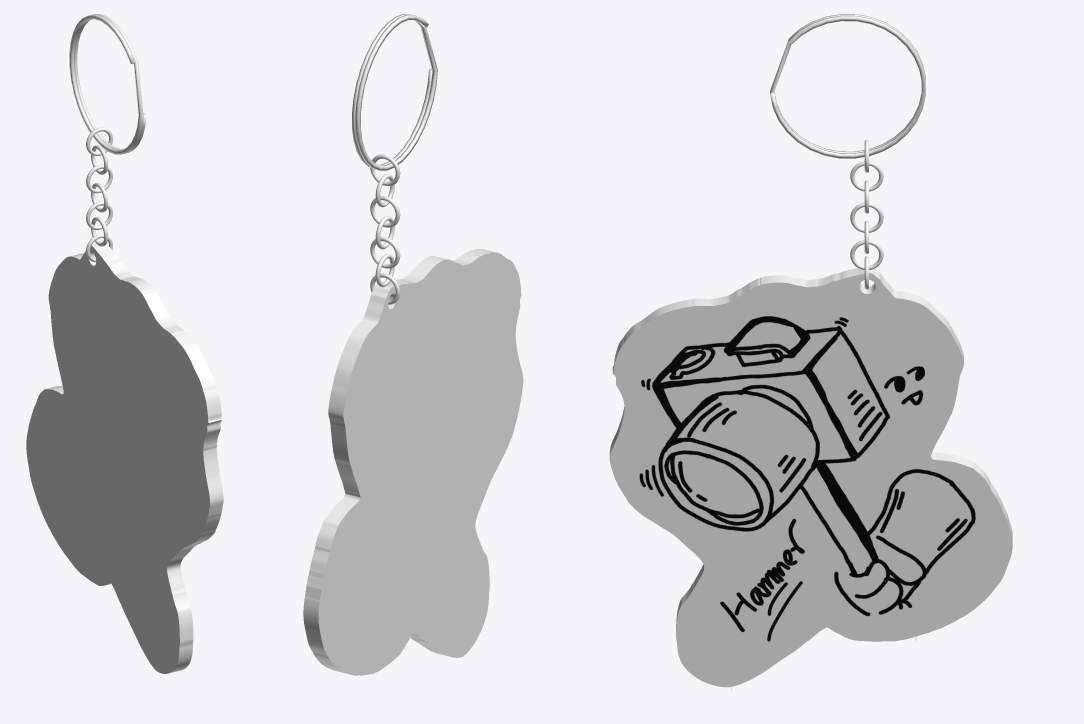
The model's file is GZ_hammer.glb.
3 views of the same model, side by side, from view 1: azimuth 30°, elevation 25°; view 2: azimuth 150°, elevation 25°; view 3: azimuth 270°, elevation 25° (orthographic). The views are drawn at different scales.
Visible parts, largest first — view 1: 矩形_1, 圆环; view 2: 矩形_1, 圆环; view 3: logo, 矩形_1, 圆环.
Boxes of the visible parts, x1,y1,x2,y2 form: 矩形_1: [26, 244, 223, 673]; 圆环: [69, 14, 146, 154]; 矩形_1: [303, 249, 523, 675]; 圆环: [352, 14, 437, 170]; logo: [628, 297, 992, 671]; 矩形_1: [609, 268, 1012, 692]; 圆环: [770, 14, 925, 158].
Bounding box in the file's own units: 0.1014 × 1.81 × 1.21.
Materials: 3 (1 with a texture image).
